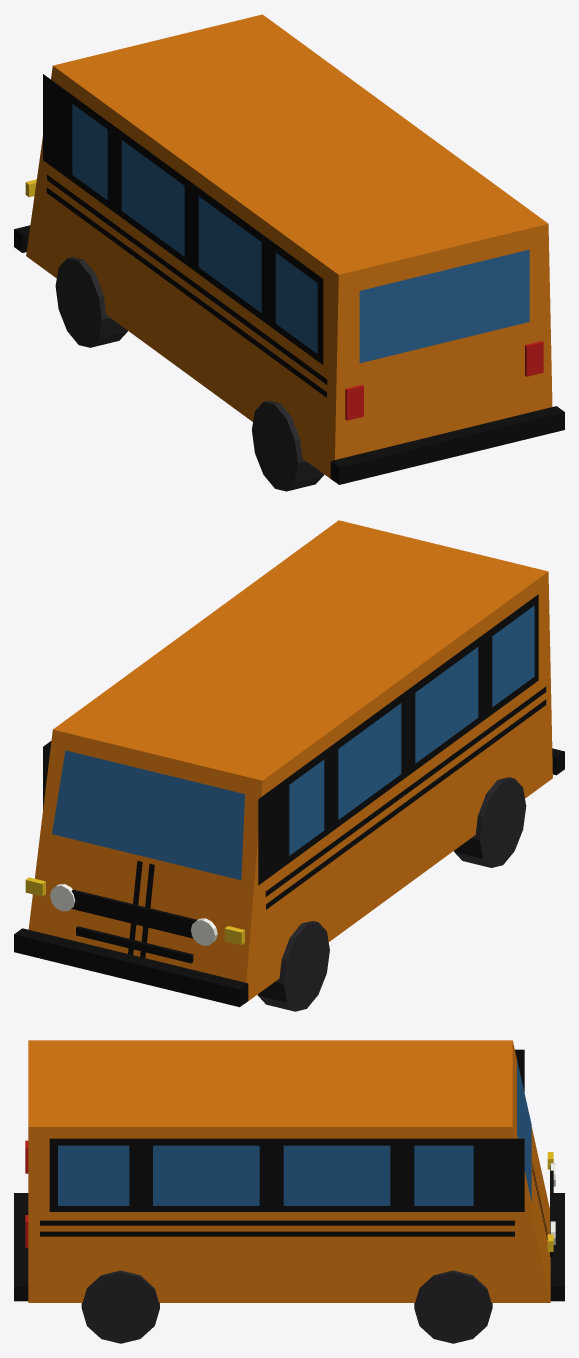
The model's file is DanfoLow.obj.
3 views of the same model, one above another, from view 1: azimuth 30°, elevation 25°; view 2: azimuth 150°, elevation 25°; view 3: azimuth 270°, elevation 25° (orthographic). The views are drawn at different scales.
Parts seen in each view (by area): view 1: Body; view 2: Body; view 3: Body.
Part boxes in pixels (box(x1,y1,x2,y2)): Body: box(14, 14, 564, 491); Body: box(14, 520, 564, 1011); Body: box(14, 1040, 564, 1343).
Bounding box in the file's own units: 1.88 × 1.98 × 4.64.
